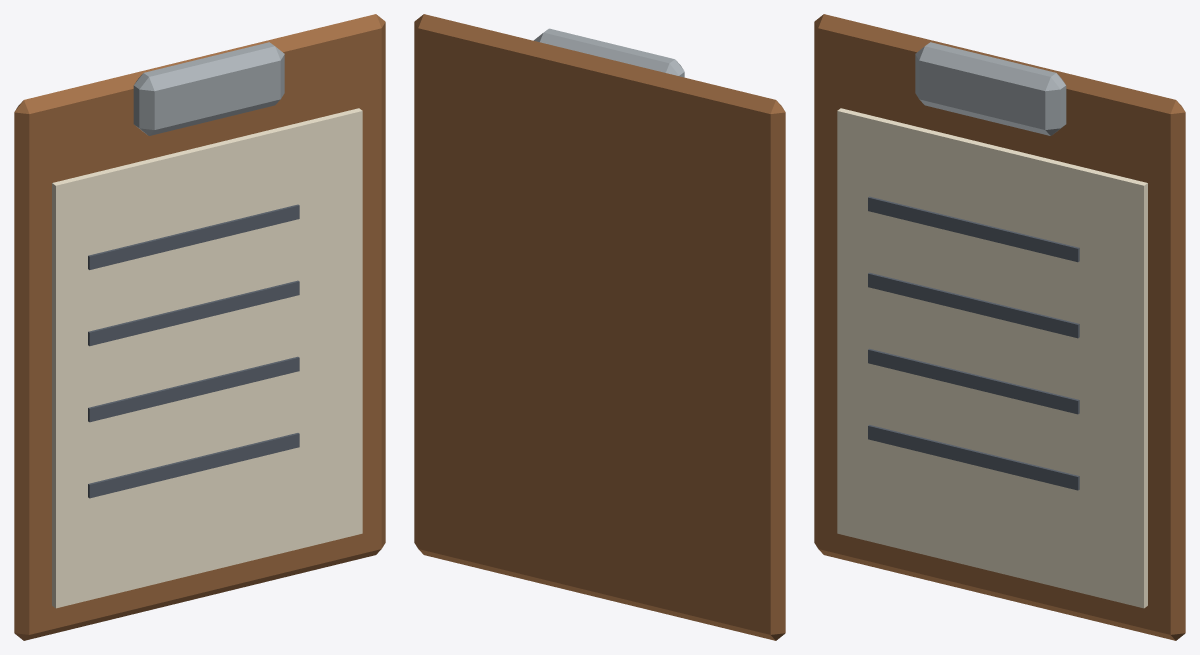
File: clipboard.glb
3 renders of one model, left to right at view 1: azimuth 30°, elevation 25°; view 2: azimuth 150°, elevation 25°; view 3: azimuth 330°, elevation 25°, orthographic.
Parts seen in each view (by area): view 1: clipboard; view 2: clipboard; view 3: clipboard.
Boxes of the visible parts, left/top/right/bottom form: clipboard: left=14, top=14, right=385, bottom=640; clipboard: left=414, top=14, right=785, bottom=640; clipboard: left=814, top=14, right=1185, bottom=640.
Bounding box in the file's own units: 0.23 × 0.3225 × 0.025.
